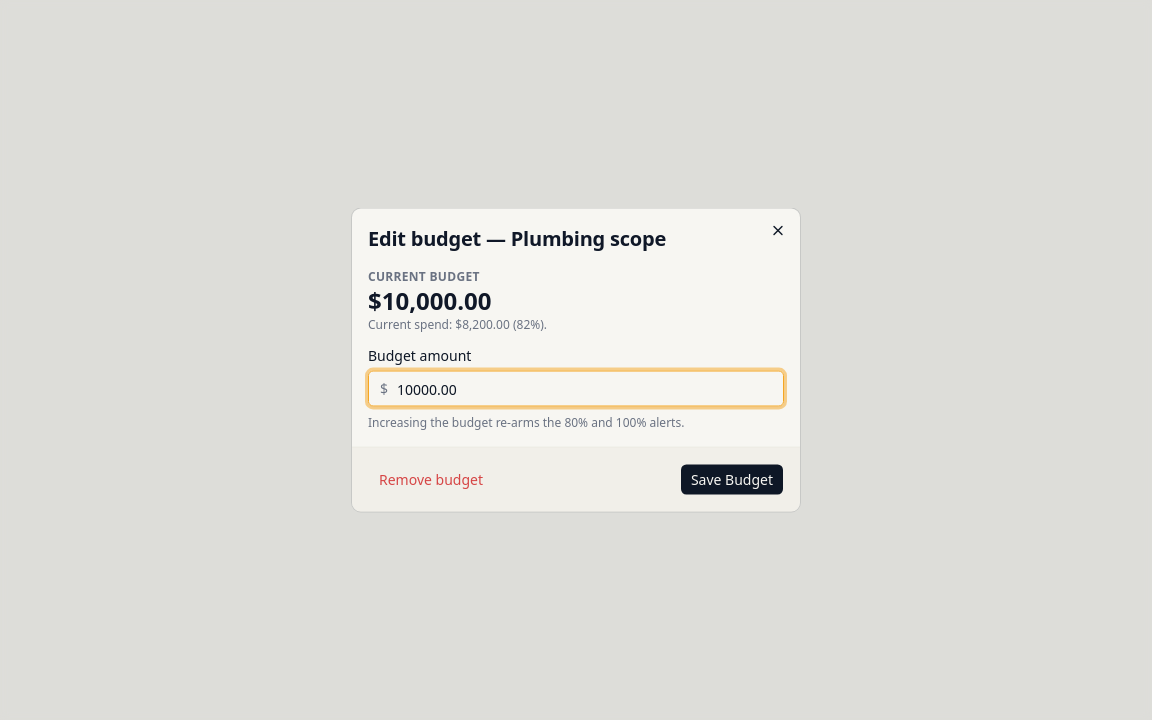
Test: SetBudgetDialog › an amount below current spend shows the live note and keeps submit enabled
The width and height of the screenshot is (1152, 720).
Replace the text in the field with test id "budget-amount-input" with "5000": (576, 388) [368,370,784,406]
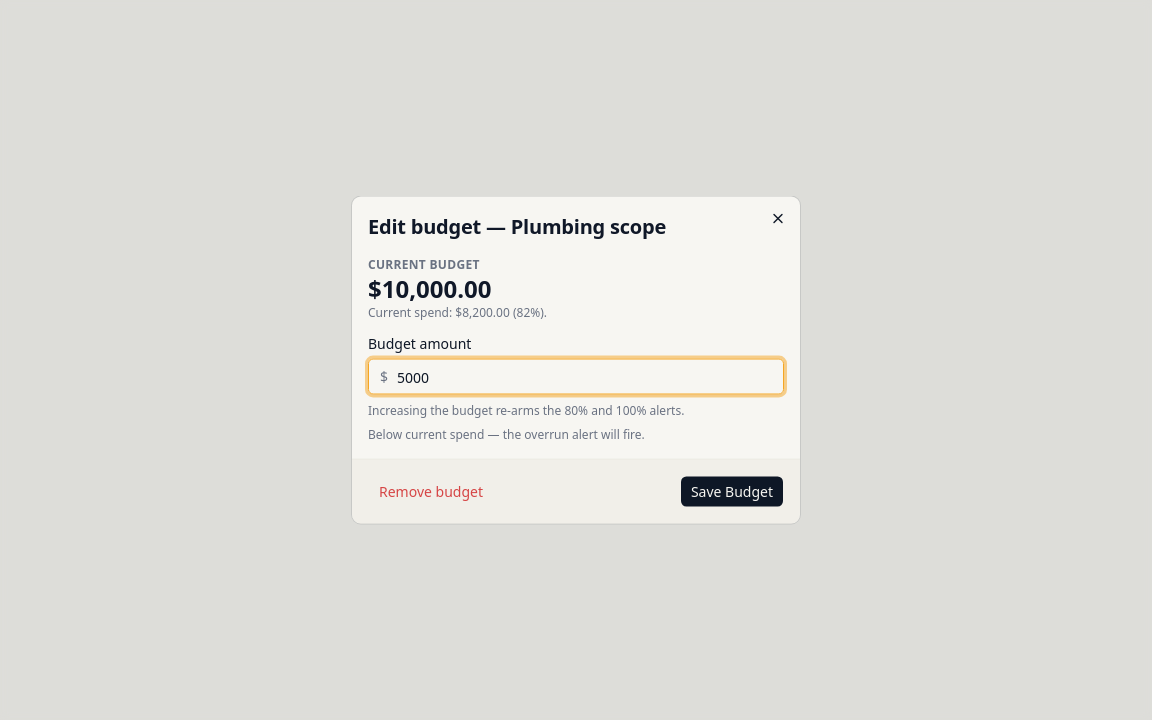
Check: the button "Save Budget" is enabled, box [680,476,784,508]
Check: the text "Below current spend — the overrun alert will fire." is shown, box [368,426,645,442]
